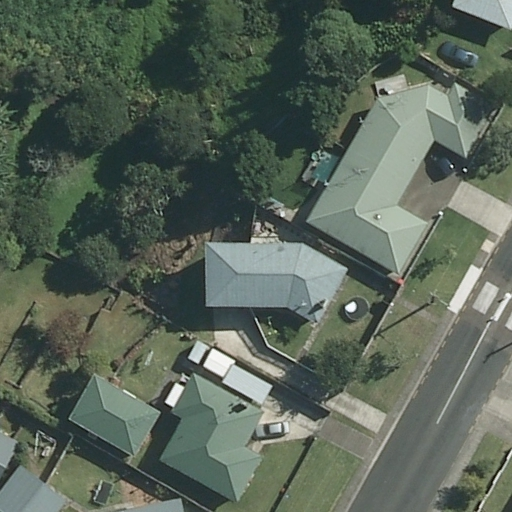DT: (426, 288, 437, 311)
